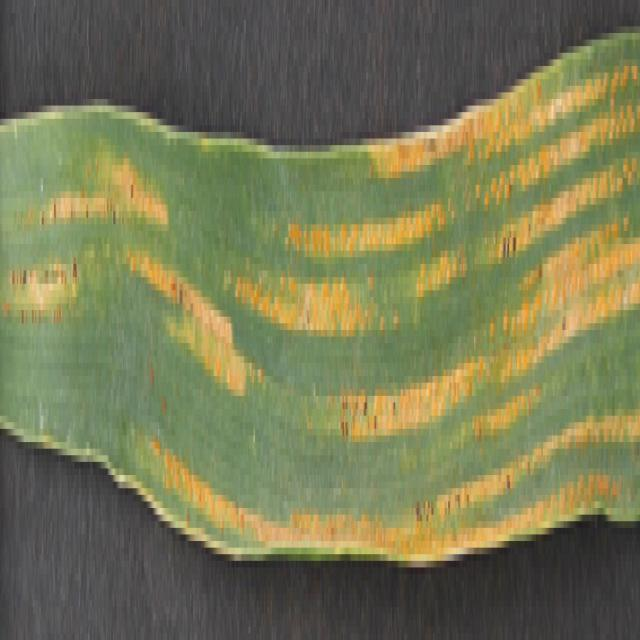leaf rust: (3, 27, 638, 554)
